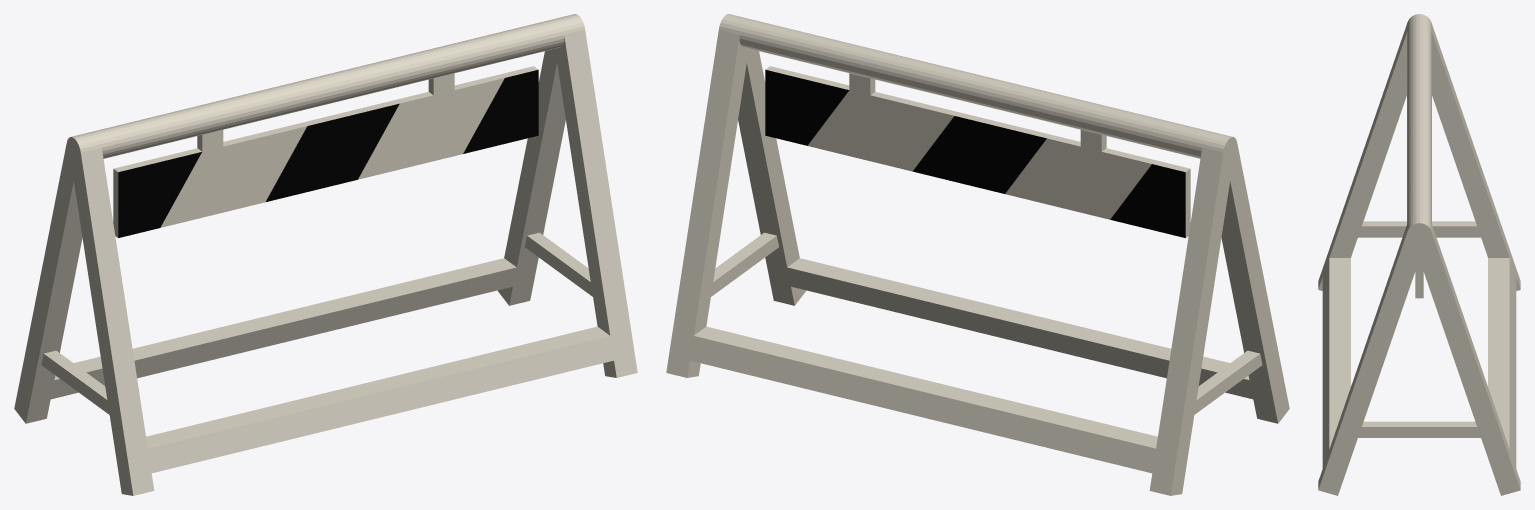
File: barricade.fbx
3 renders of one model, left to right at view 1: azimuth 30°, elevation 25°; view 2: azimuth 150°, elevation 25°; view 3: azimuth 270°, elevation 25°, orthographic. The views are drawn at different scales.
Visible parts, largest first — view 1: barricade; view 2: barricade; view 3: barricade.
Boxes of the visible parts, x1,y1,x2,y2 form: barricade: (14, 14, 637, 495); barricade: (666, 14, 1289, 495); barricade: (1318, 14, 1520, 495).
Bounding box in the file's own units: 120 × 72.96 × 49.07.
